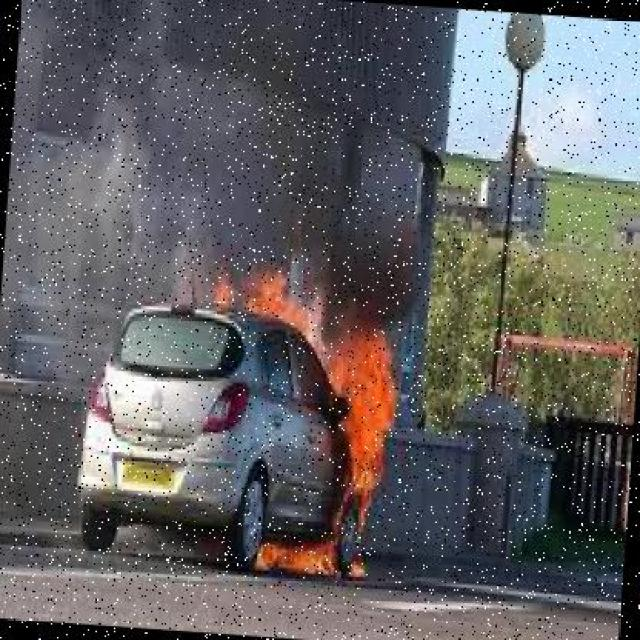fire: (202, 263, 403, 475), (244, 506, 376, 603)
